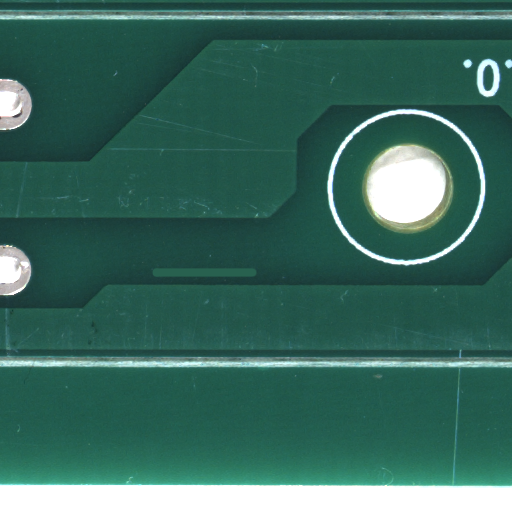Spurious_copper: (203, 271, 309, 284)
